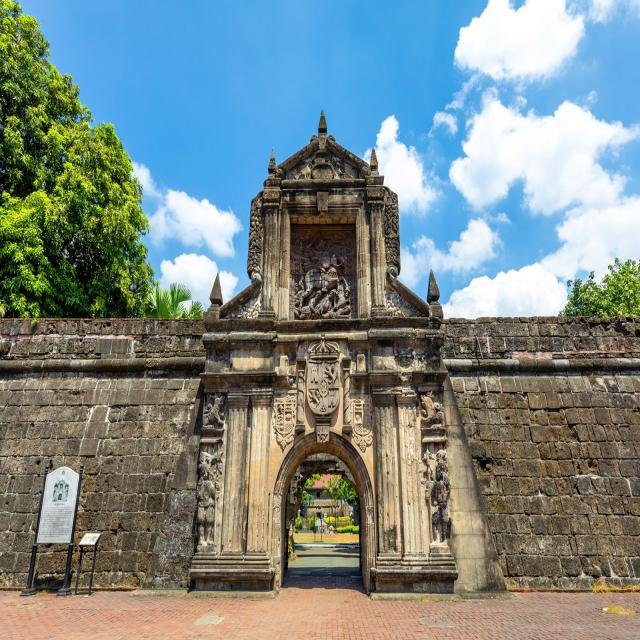Fort Santiago: (0, 112, 640, 591)
